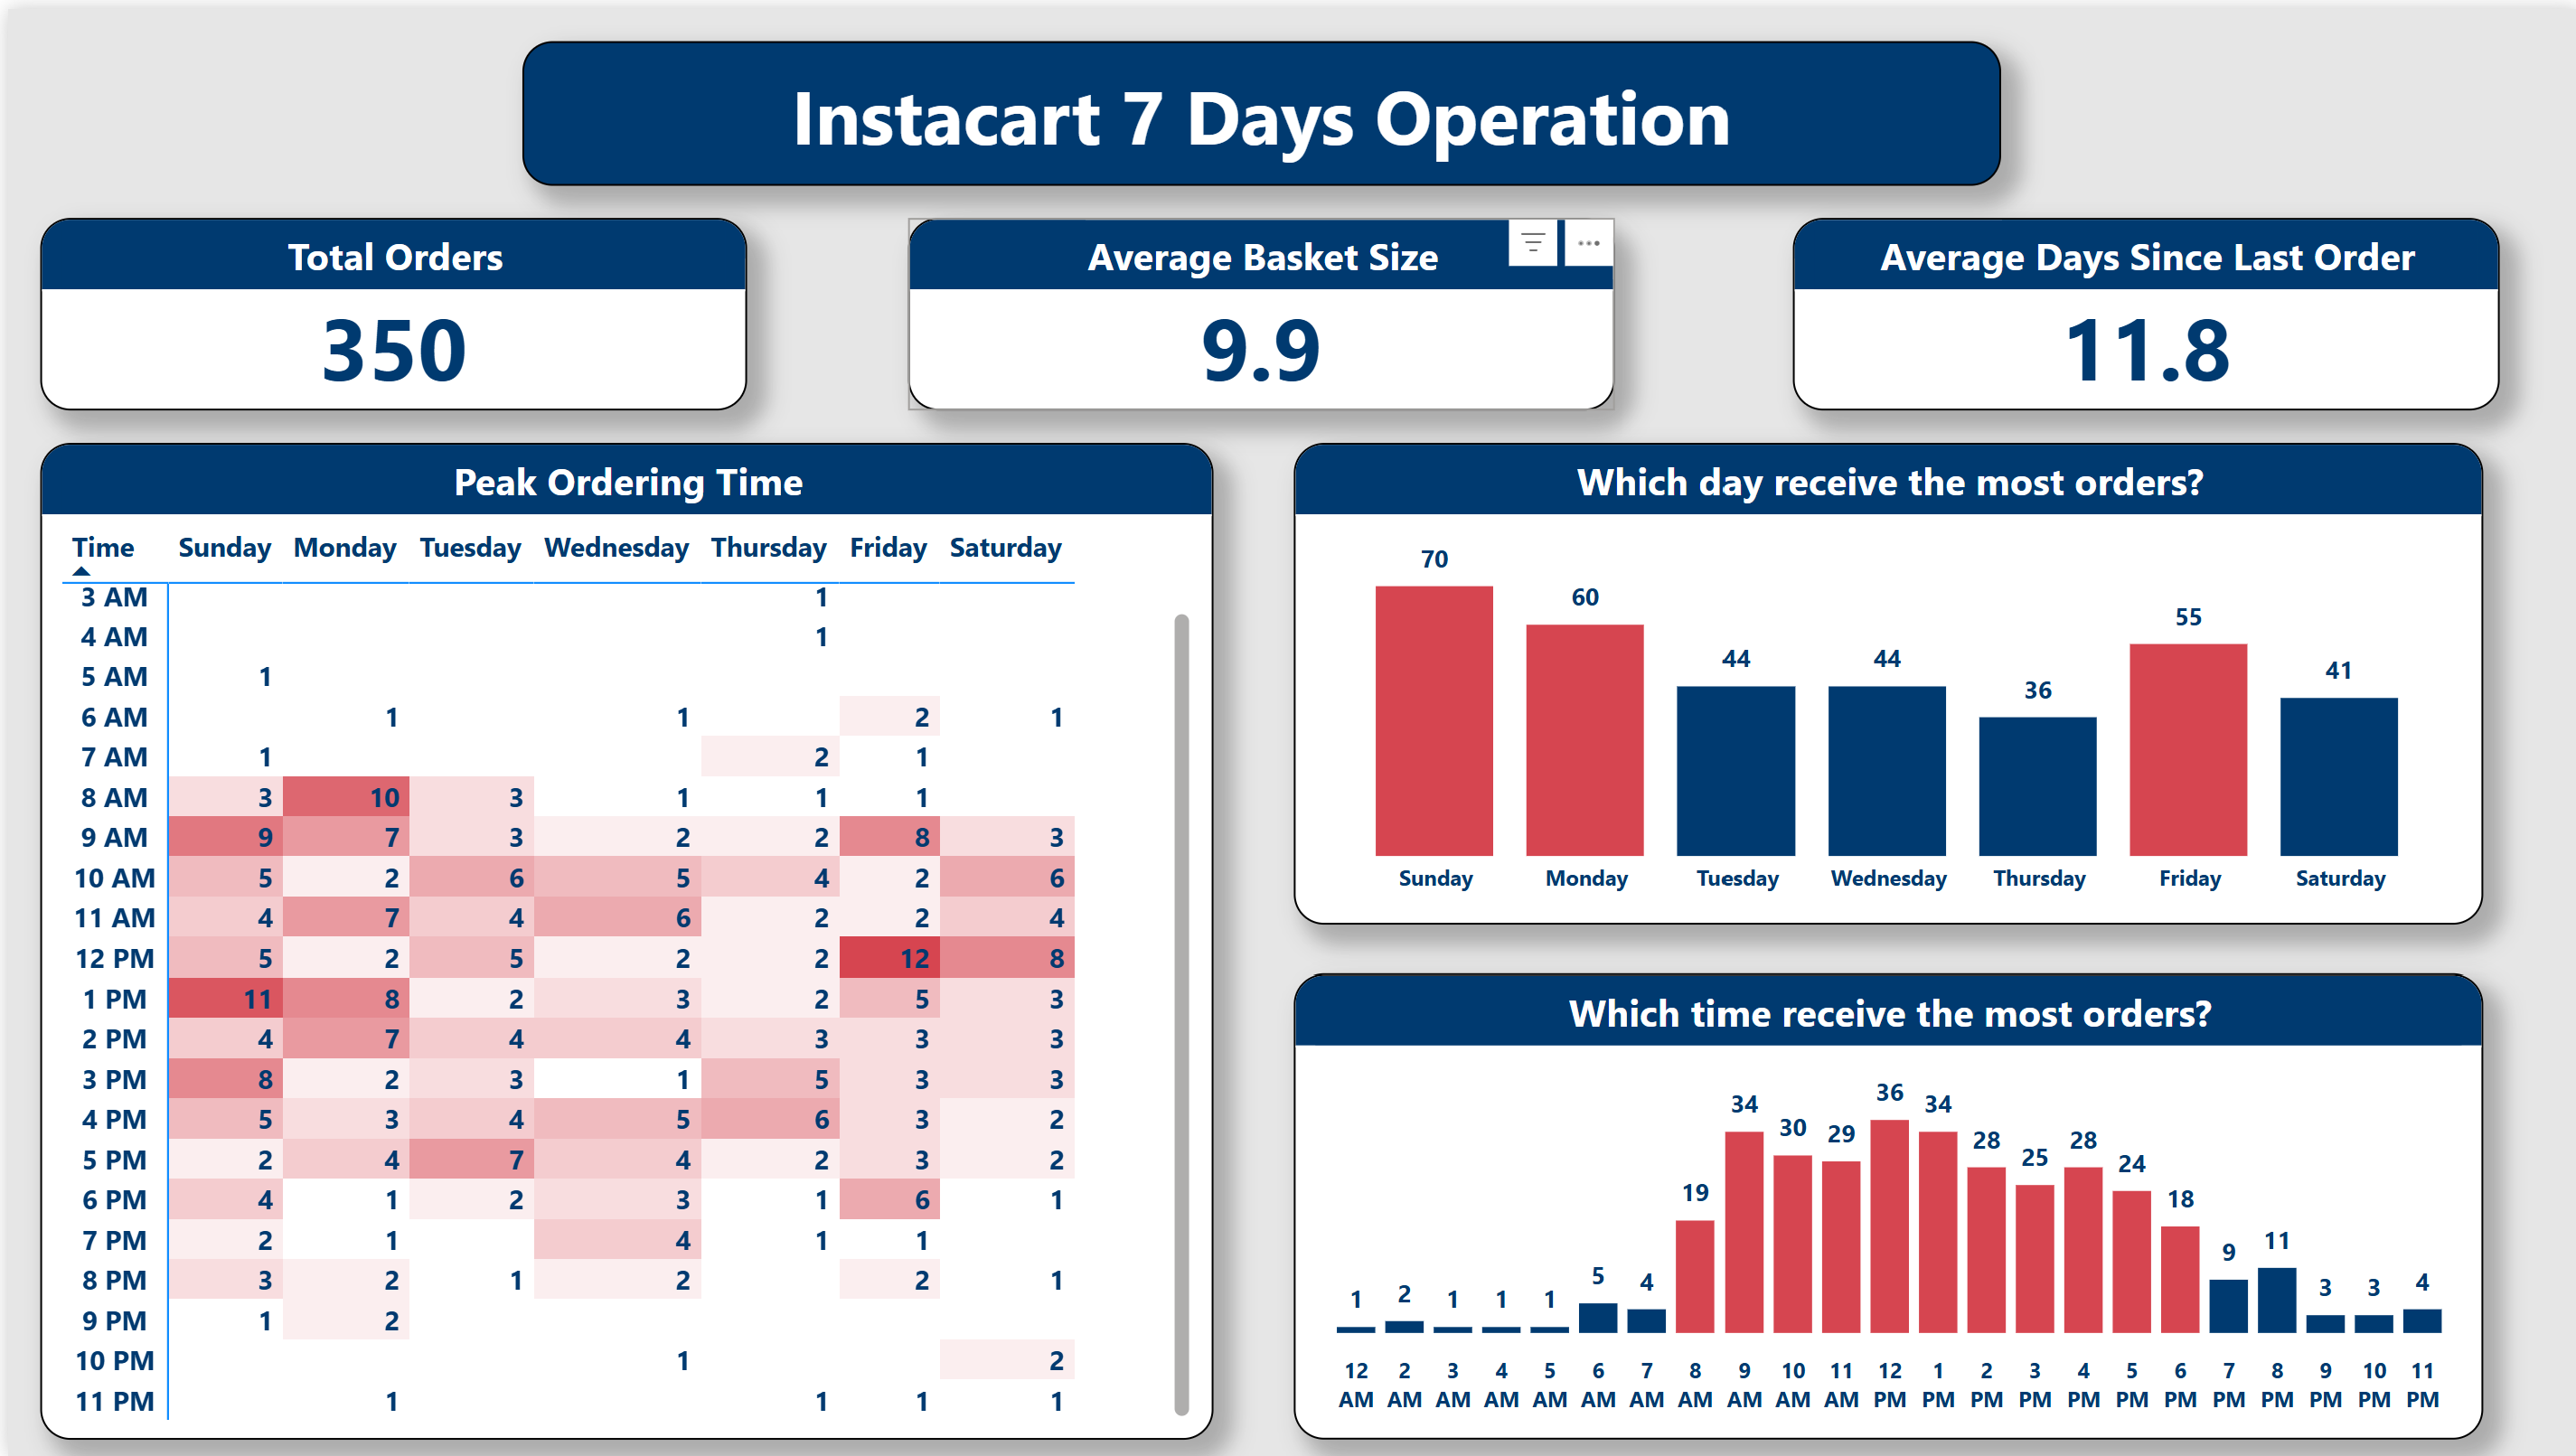

This screenshot's page, from the dashboard's own definition file:
{"tool":"powerbi","page":{"name":"Operation","canvas":[1280,720],"ordinal":0},"visuals":[{"type":"textbox","title":"Page 1 Tittle","box":[256,16,736,72],"z":0},{"type":"card","title":"Total Orders","fields":{"Values":["CountNonNull(DIM_ORDER.ORDER_ID)"]},"box":[16,104,352,96],"z":1000},{"type":"card","title":"Average Basket Size","fields":{"Values":["FCT_ORDER_PRODUCTS.AVG_PRODUCTS"]},"box":[448,104,352,96],"z":2000},{"type":"card","title":"Average Days Since Last Order","fields":{"Values":["Avg(DIM_ORDER.DAYS_SINCE_PRIOR_ORDER)"]},"box":[888,104,352,96],"z":3000},{"type":"columnChart","title":"Which day receive the most orders?","fields":{"Y":["CountNonNull(DIM_ORDER.ORDER_ID)"],"Category":["DIM_ORDER.Day Name"]},"box":[640,216,592,240],"z":4000},{"type":"columnChart","title":"Which time receive the most orders?","fields":{"Y":["CountNonNull(DIM_ORDER.ORDER_ID)"],"Category":["DIM_ORDER.Hour AM/PM"]},"box":[640,480,592,232],"z":5000},{"type":"pivotTable","title":"Peak Ordering Time","fields":{"Rows":["DIM_ORDER.Hour AM/PM"],"Columns":["DIM_ORDER.Day Name"],"Values":["CountNonNull(DIM_ORDER.ORDER_ID)"]},"box":[16,216,584,496],"z":6000}]}

Visuals, with their boxes in screenshot pixels (x1, y1, x2, y2), scaled from the page's 1280x720 canvas onto the 2576x1456 screenshot:
"Page 1 Tittle" textbox: rect(515, 33, 1997, 178)
"Total Orders" card: rect(33, 211, 740, 404)
"Average Basket Size" card: rect(902, 211, 1610, 404)
"Average Days Since Last Order" card: rect(1787, 211, 2496, 404)
"Which day receive the most orders?" columnChart: rect(1288, 437, 2479, 922)
"Which time receive the most orders?" columnChart: rect(1288, 971, 2479, 1440)
"Peak Ordering Time" pivotTable: rect(33, 437, 1208, 1440)
